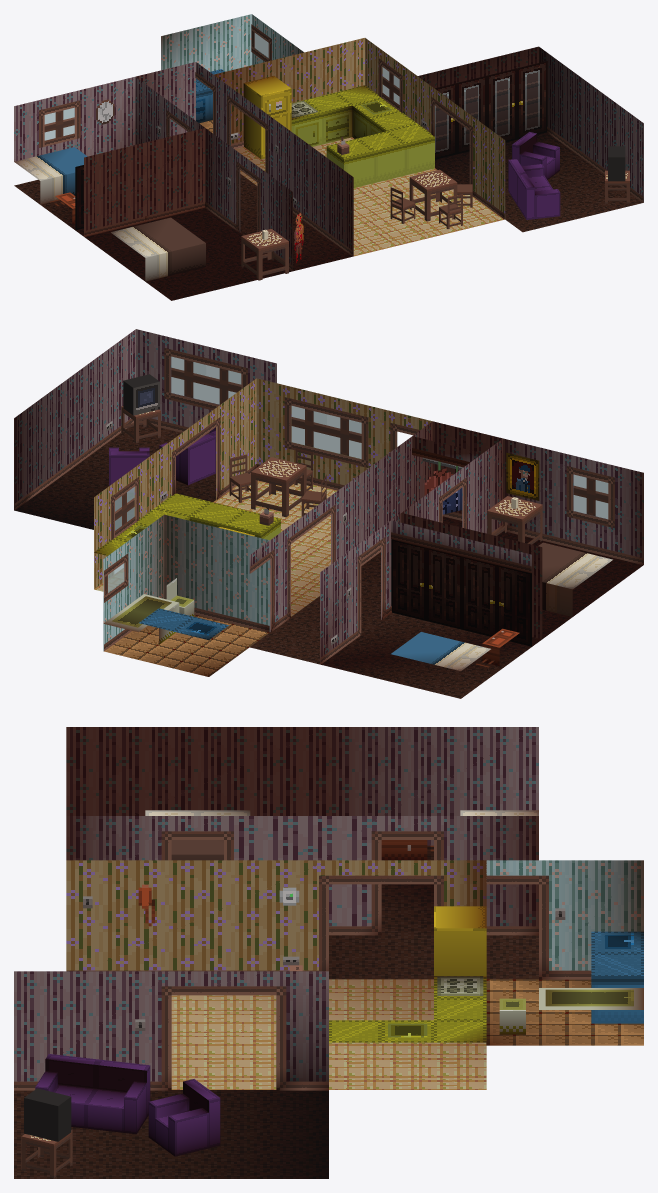
Rendered from 01_house.gltf.
3 renders of one model, top to bottom at view 1: azimuth 30°, elevation 25°; view 2: azimuth 150°, elevation 25°; view 3: azimuth 270°, elevation 25°, orthographic. The views are drawn at different scales.
Parts seen in each view (by area): view 1: HouseCombinedNoDoors, table (×3), couch, armchair, chair (×2), TV; view 2: HouseCombinedNoDoors, table (×3), couch, TV, armchair, chair, suitcase; view 3: HouseCombinedNoDoors, couch, armchair, TV, table, suitcase.
Part boxes in pixels (box(x1,y1,x2,y2)): HouseCombinedNoDoors: box(14, 14, 643, 300); table (×3): box(241, 169, 629, 280); couch: box(508, 159, 560, 219); armchair: box(512, 132, 559, 179); chair (×2): box(390, 187, 462, 228); TV: box(608, 146, 625, 181); HouseCombinedNoDoors: box(14, 329, 643, 698); table (×3): box(121, 406, 542, 544); couch: box(159, 427, 215, 485); TV: box(123, 374, 159, 415); armchair: box(109, 447, 149, 491); chair: box(229, 454, 257, 502); suitcase: box(476, 628, 519, 667); HouseCombinedNoDoors: box(14, 727, 643, 1178); couch: box(35, 1054, 150, 1134); armchair: box(148, 1079, 220, 1156); TV: box(24, 1088, 71, 1141); table: box(21, 1130, 72, 1178); suitcase: box(381, 840, 433, 859).
Size of the model in its own units: 15 by 2.53 by 12.
30 materials, 30 textured.
